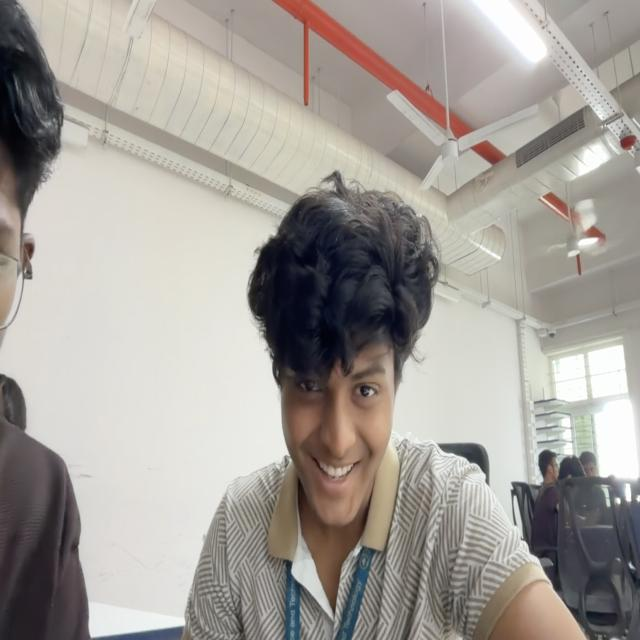kshitij: (249, 183, 439, 532)
